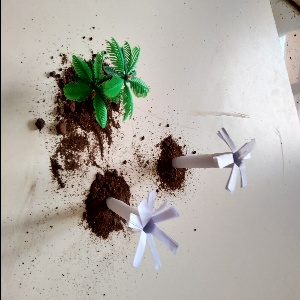plant: (57, 45, 158, 123)
weed: (84, 187, 198, 271), (163, 127, 265, 195)
